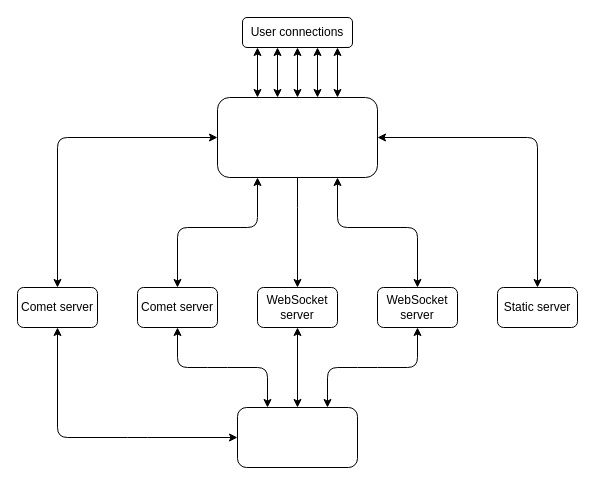
Image size: 595x485. Some labels were removed from this diagram. The shapes that lost their labels are listed below. From the top down, each one's centre as x and y in pixels, then its label:
At point (297, 137): "NGINX (Proxy server and load balancer)".
At point (297, 437): "Messaging service".
